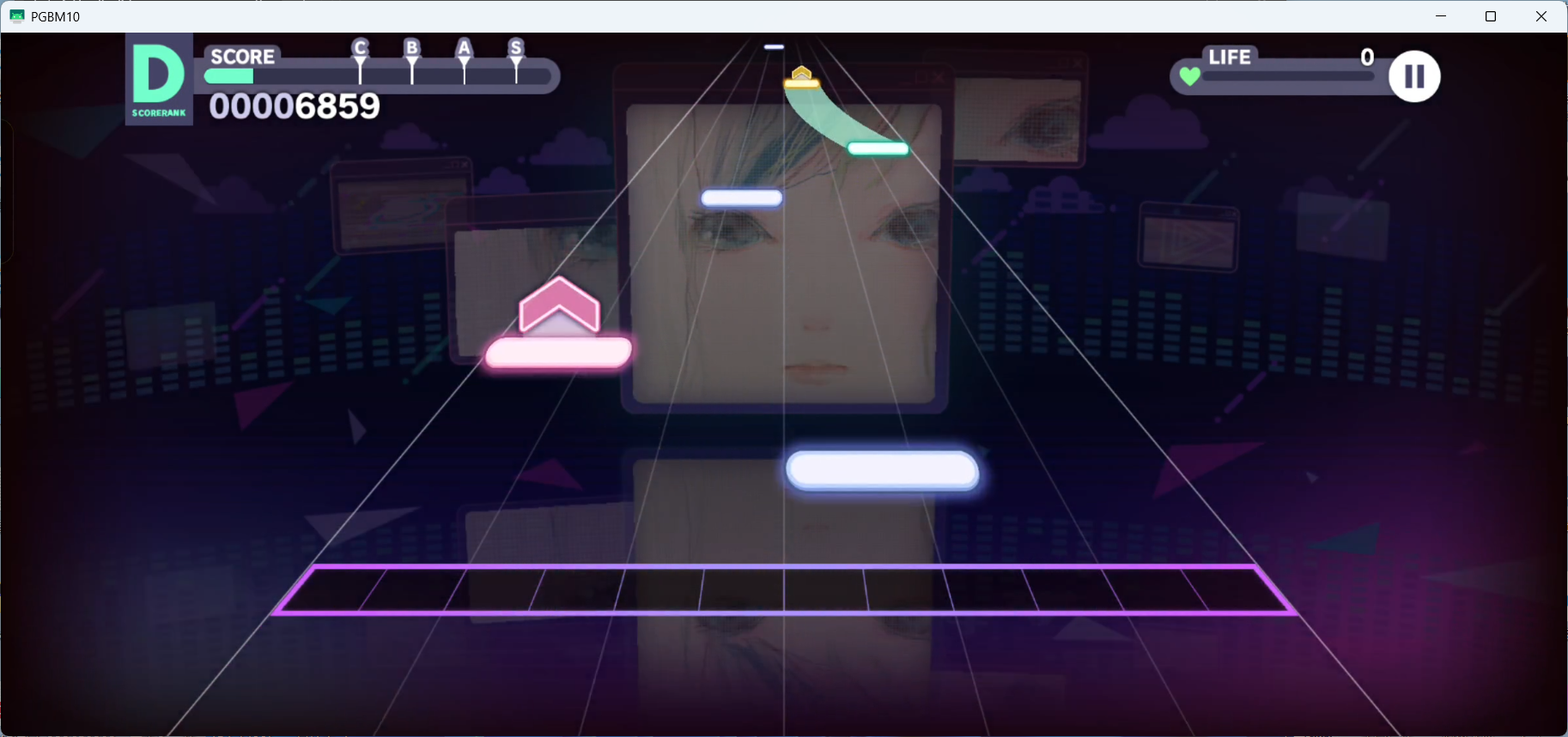flick: (518, 273, 599, 335), (792, 65, 811, 80)
hold: (783, 88, 897, 142)
tap: (786, 450, 981, 492), (484, 336, 630, 368), (700, 190, 781, 207), (848, 142, 908, 154), (784, 80, 820, 88), (764, 44, 784, 49)
